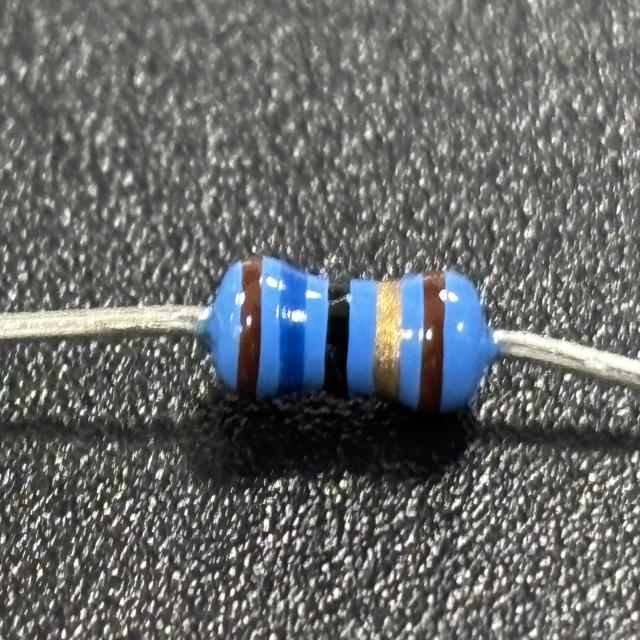resistor: (209, 248, 493, 424)
